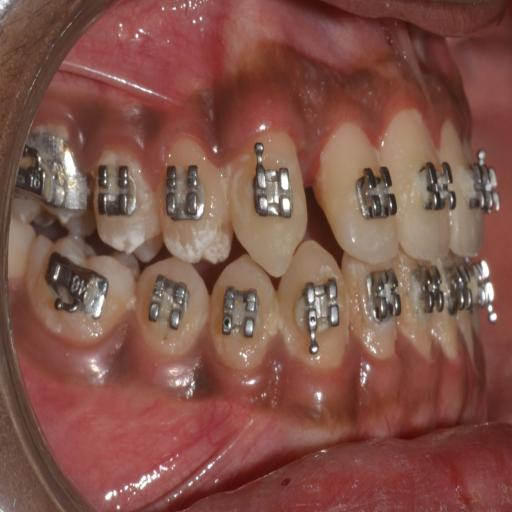correct_brace: (162, 137, 231, 263), (136, 260, 206, 359), (248, 138, 296, 225), (351, 155, 397, 230), (216, 282, 264, 348), (297, 280, 338, 353), (150, 270, 191, 342)
incorrect_brace: (314, 126, 398, 264), (280, 240, 349, 366), (169, 160, 203, 224)
